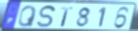1: (98, 7, 107, 29)
6: (113, 7, 130, 30)
8: (75, 7, 92, 28)
Q: (17, 5, 38, 28)
S: (36, 5, 57, 29)
T: (59, 7, 74, 28)
